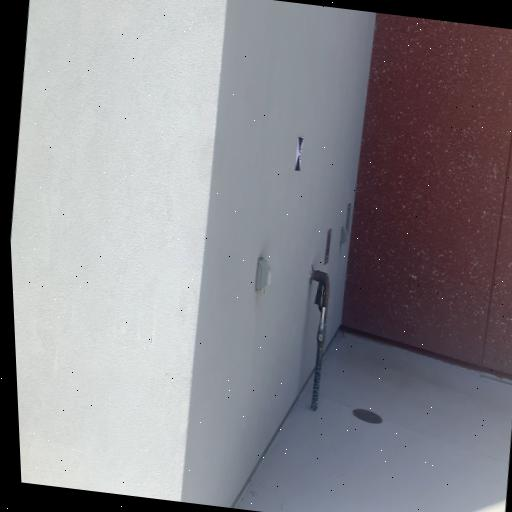target5: (295, 135, 304, 173)
